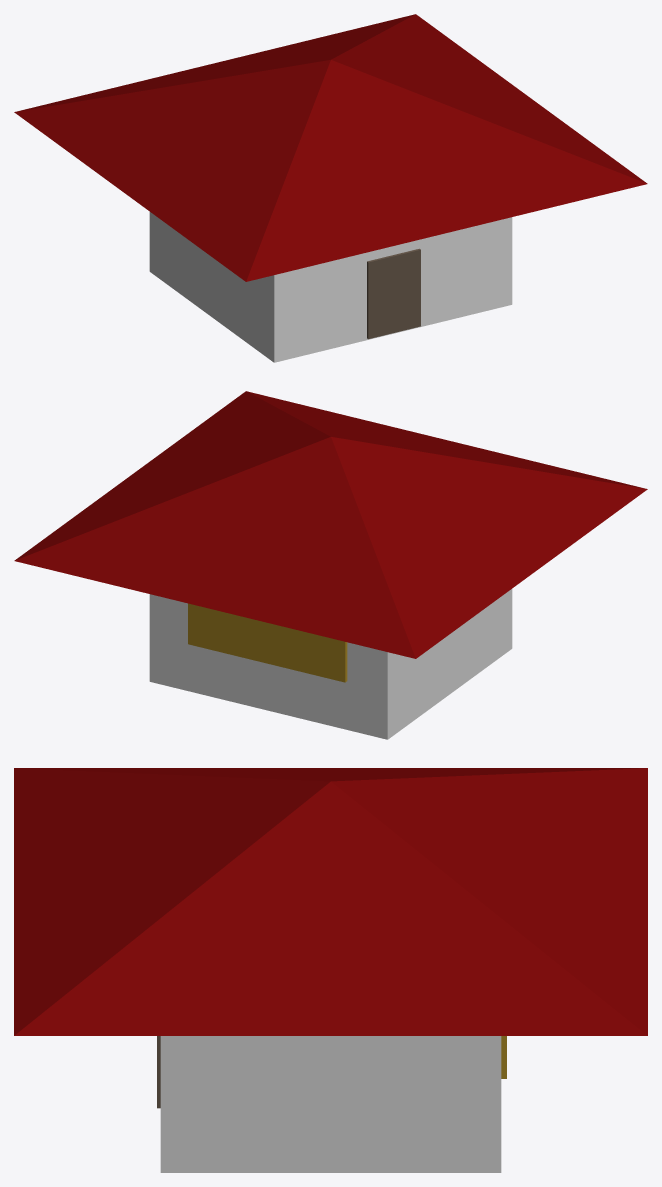
The model's file is House F.fbx.
3 renders of one model, top to bottom at view 1: azimuth 30°, elevation 25°; view 2: azimuth 150°, elevation 25°; view 3: azimuth 270°, elevation 25°, orthographic. The views are drawn at different scales.
Visible parts, largest first — view 1: pCone1, pCube1, pCube2; view 2: pCone1, pCube1, pCube3; view 3: pCone1, pCube1.
Boxes of the visible parts, x1,y1,x2,y2 form: pCone1: (14, 14, 647, 281); pCube1: (149, 212, 512, 362); pCube2: (367, 248, 420, 339); pCone1: (14, 391, 647, 658); pCube1: (149, 589, 512, 739); pCube3: (188, 603, 347, 682); pCone1: (14, 768, 647, 1035); pCube1: (160, 1036, 501, 1172).
Size of the model in its own units: 15.77 by 8.57 by 15.77.
